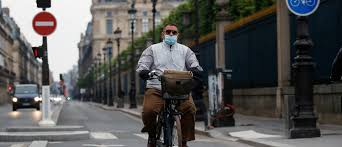with_mask: (160, 24, 180, 48)
